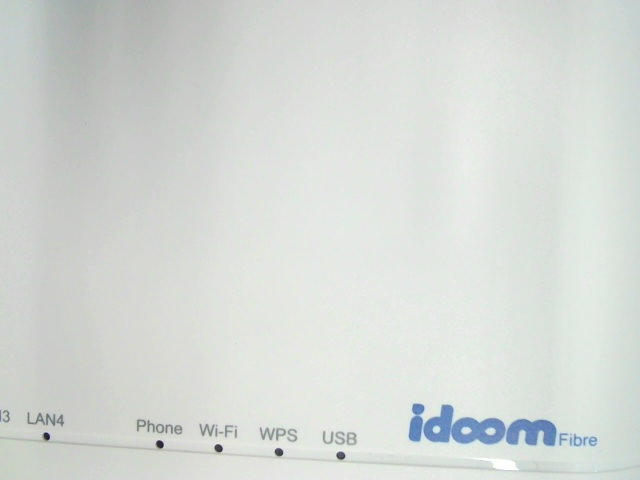BB_idoom: (396, 401, 600, 455)
